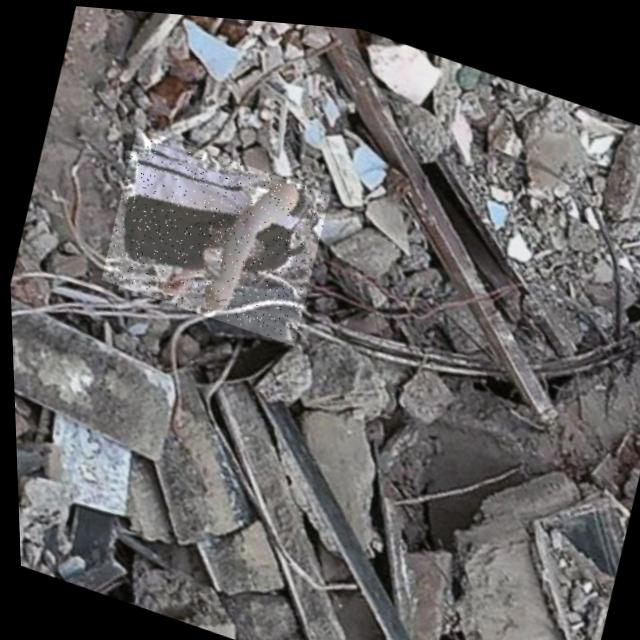Person in Rubble: (93, 122, 332, 344)
